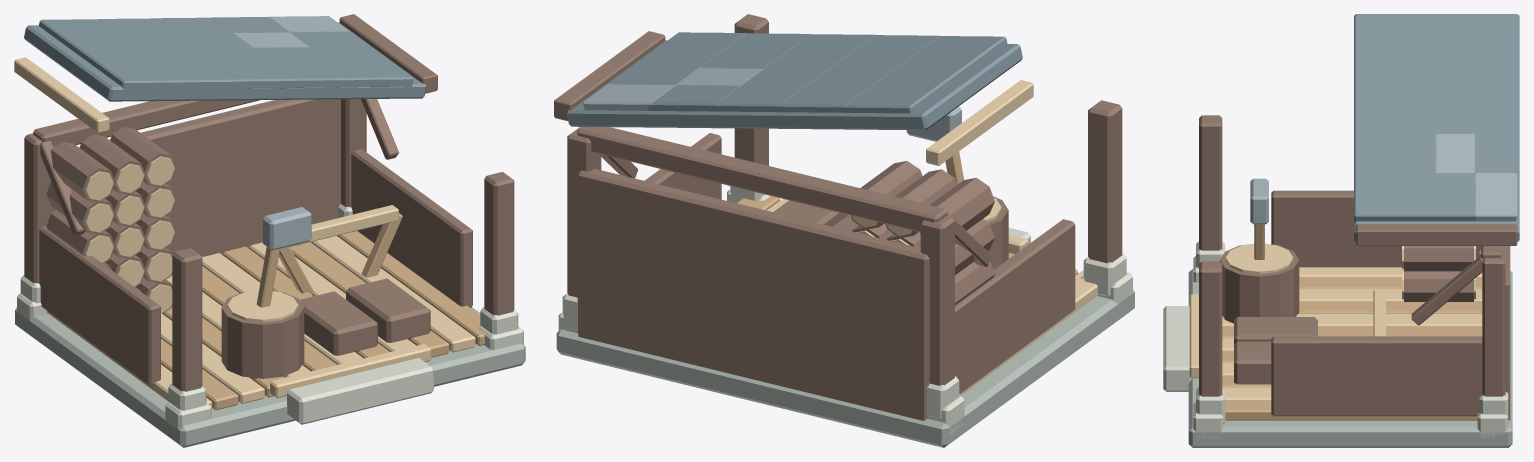
The model's file is wood_cutter.fbx.
The picture shows the model from 3 angles, left to right: view 1: azimuth 30°, elevation 25°; view 2: azimuth 150°, elevation 25°; view 3: azimuth 270°, elevation 25°; orthographic projection. The views are drawn at different scales.
Parts seen in each view (by area): view 1: wood_cutter_mesh, Axe; view 2: wood_cutter_mesh, Axe; view 3: wood_cutter_mesh, Axe.
Part boxes in pixels (<box>): wood_cutter_mesh: <box>14,14,525,447</box>; Axe: <box>256,207,311,307</box>; wood_cutter_mesh: <box>554,14,1134,447</box>; Axe: <box>906,106,963,184</box>; wood_cutter_mesh: <box>1163,14,1519,447</box>; Axe: <box>1250,178,1268,259</box>.
Bounding box in the file's own units: 3.28 × 2.71 × 3.06.
